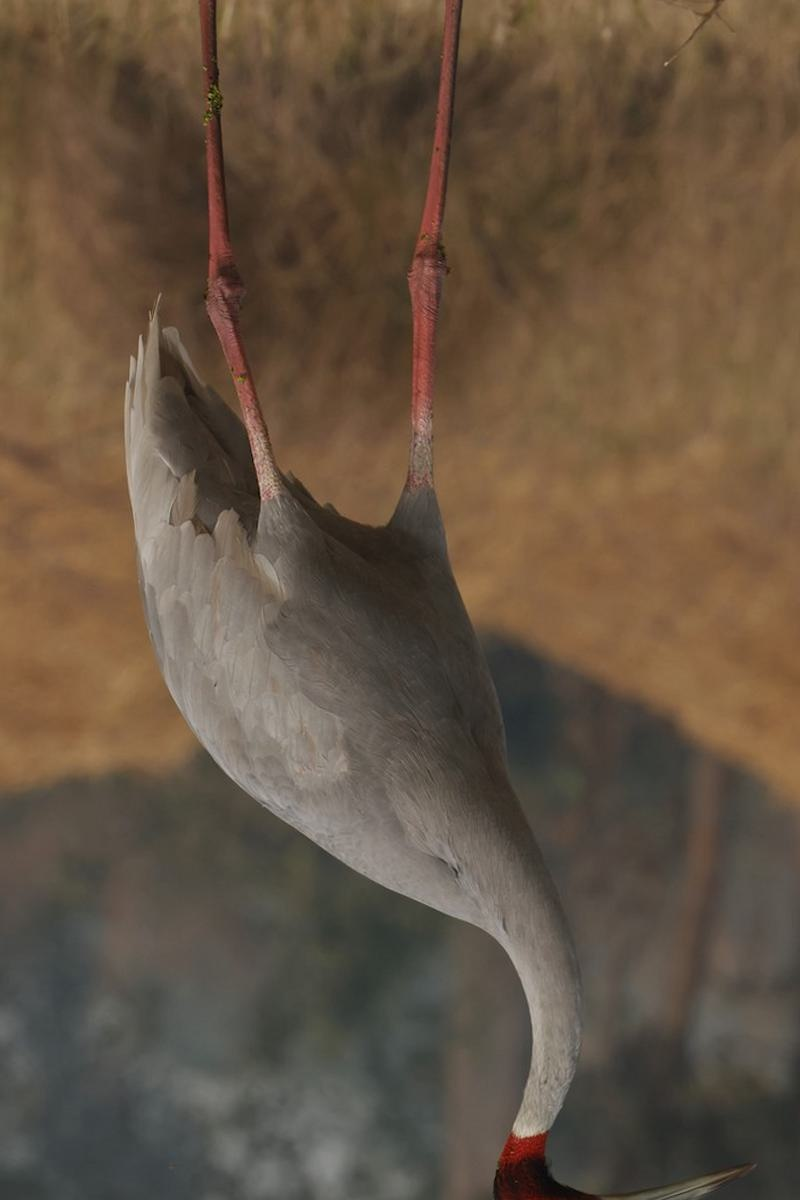crane: (110, 8, 754, 1200)
